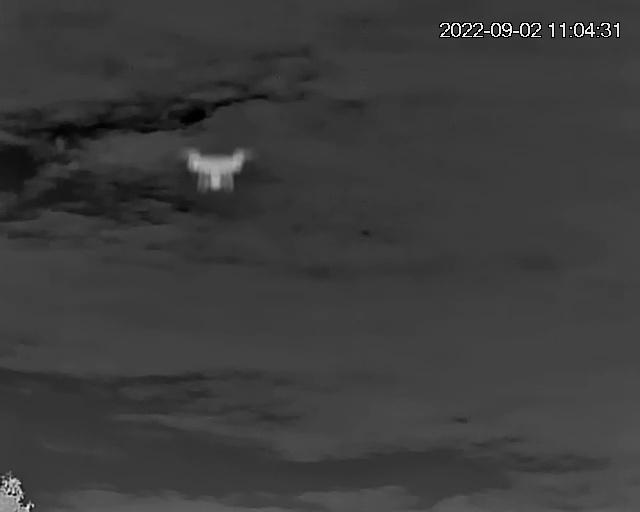DJI-Phantom: (184, 146, 252, 194)
